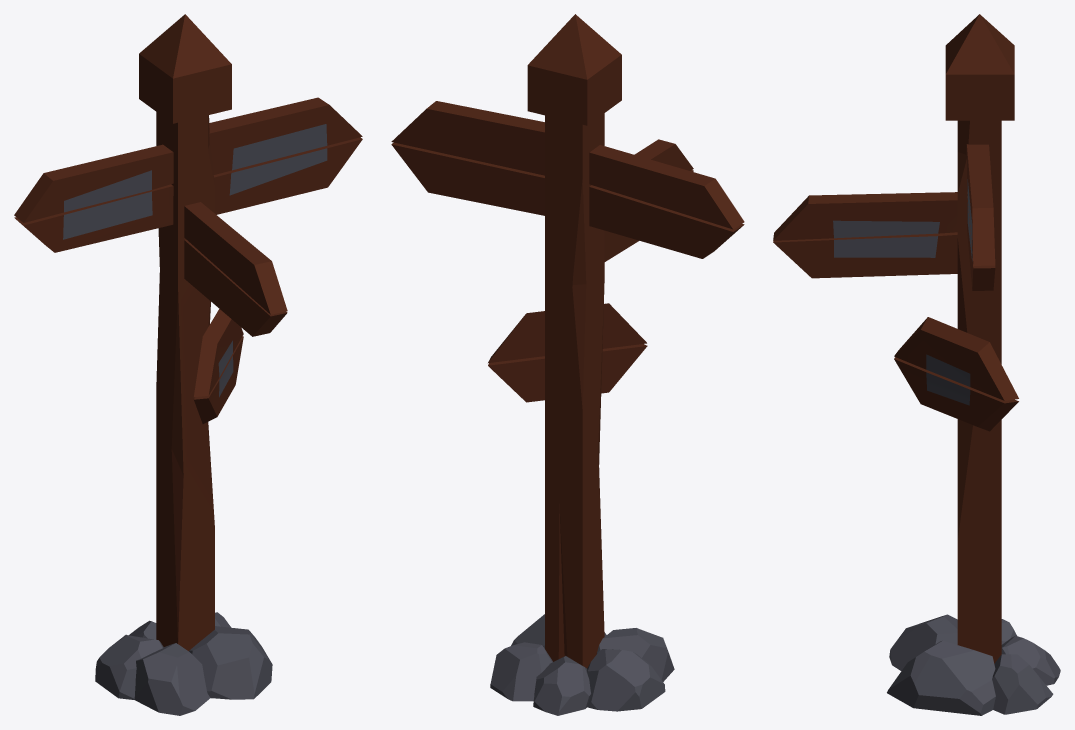
File: Sign.fbx
The picture shows the model from 3 angles, left to right: view 1: azimuth 30°, elevation 25°; view 2: azimuth 150°, elevation 25°; view 3: azimuth 270°, elevation 25°; orthographic projection.
Visible parts, largest first — view 1: Sign; view 2: Sign; view 3: Sign.
Part boxes in pixels (bbox=[...]): Sign: bbox=[14, 14, 362, 715]; Sign: bbox=[391, 14, 744, 715]; Sign: bbox=[773, 14, 1060, 715].
Size of the model in its own units: 43.89 by 81.36 by 31.77.
